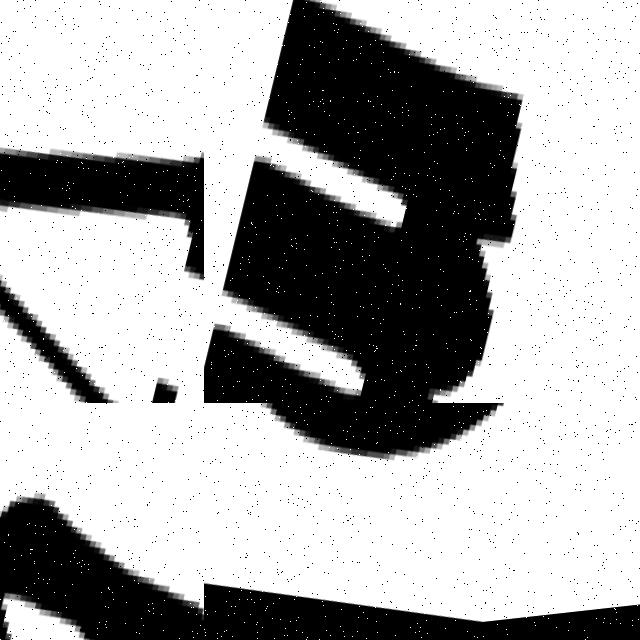5: (204, 403, 640, 575)
I: (0, 429, 204, 640)
M: (204, 0, 580, 403)
Y: (0, 0, 204, 403)
